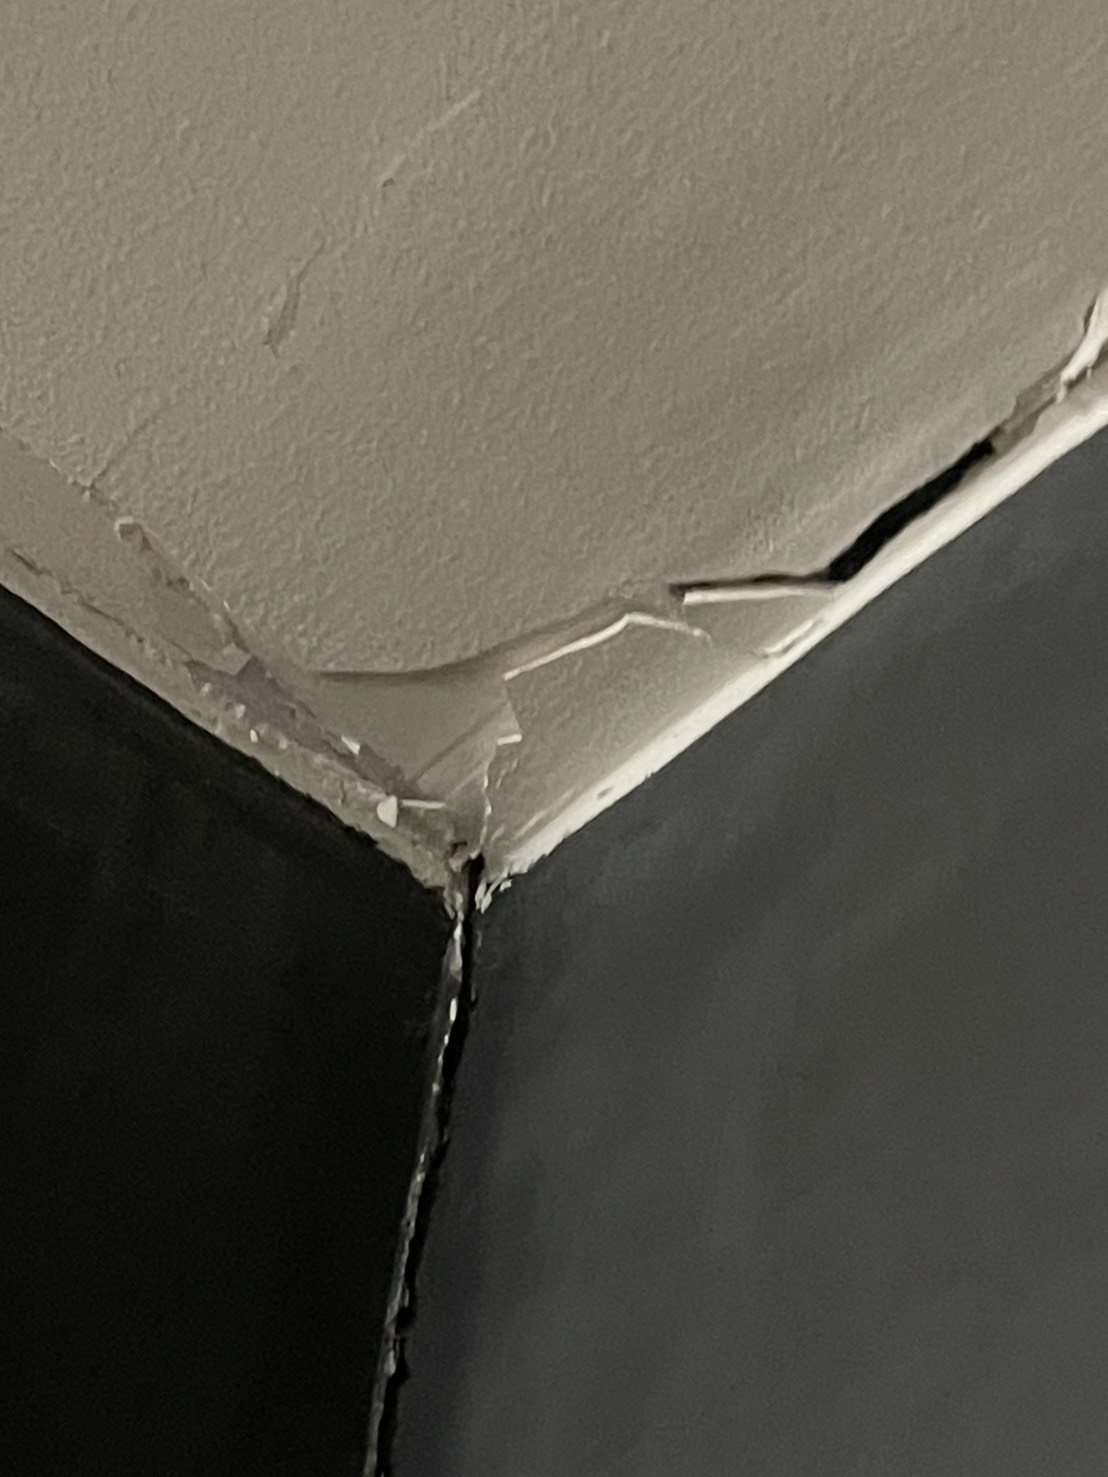Low: (1, 301, 1108, 960)
